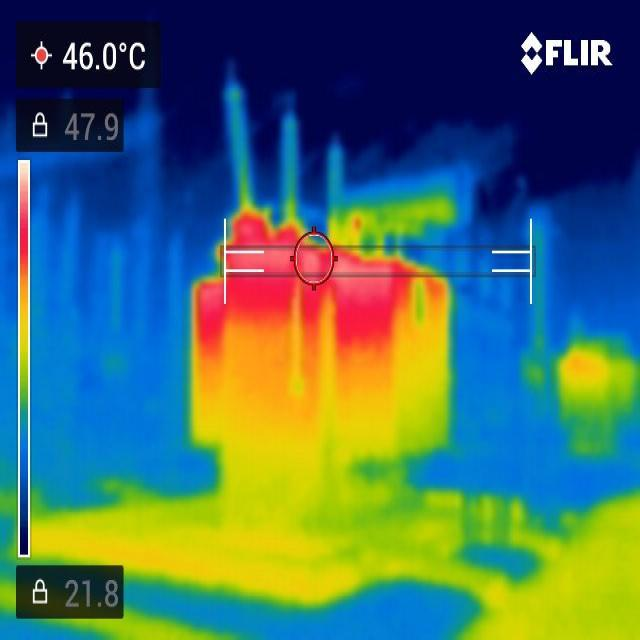Loose Joint -Faulty: (205, 213, 462, 363)
